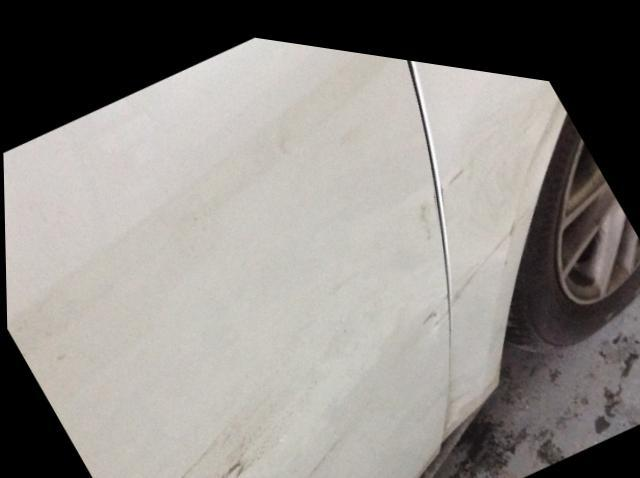dent: (438, 361, 482, 433), (431, 298, 436, 306)
rub: (168, 398, 286, 478)
scratch: (450, 221, 505, 296), (293, 426, 341, 478), (448, 144, 472, 171), (439, 171, 449, 213), (432, 296, 448, 318), (422, 295, 434, 311), (500, 244, 508, 262), (506, 204, 514, 220)
